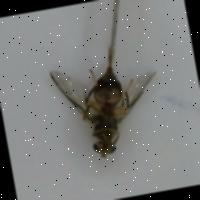Oriental-fruit-fly: (24, 25, 170, 176)
